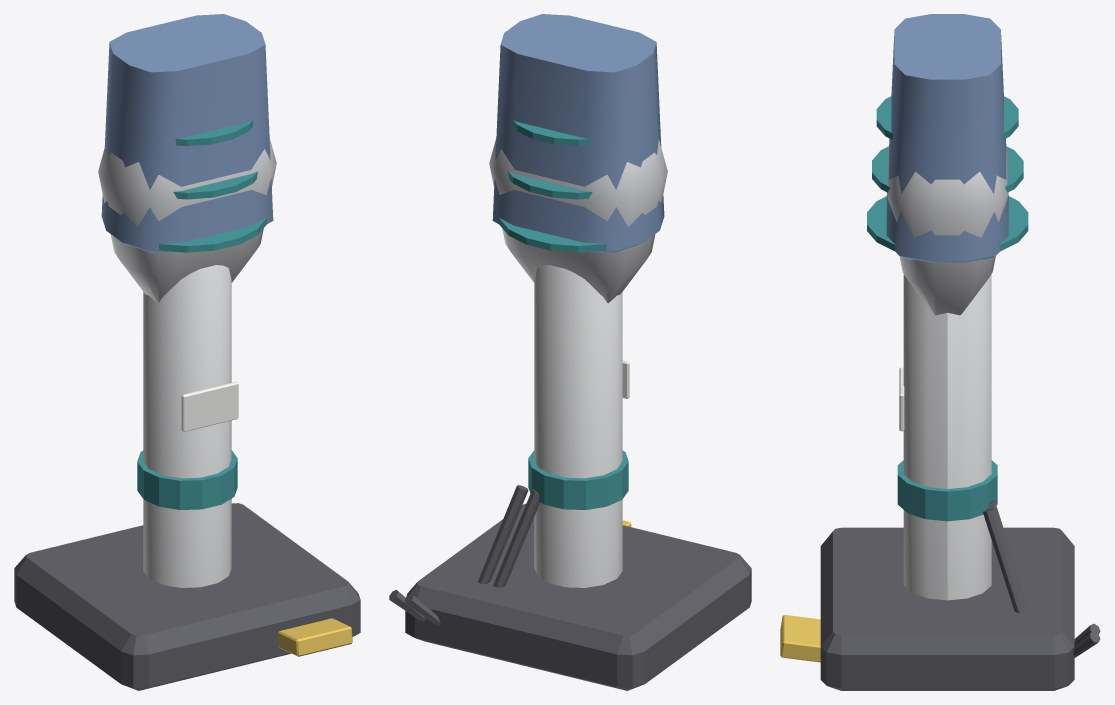
The model's file is dry-cleaners-and-alterations-shop-trouser-topper-press-2e038bff__34965.glb.
The picture shows the model from 3 angles, left to right: view 1: azimuth 30°, elevation 25°; view 2: azimuth 150°, elevation 25°; view 3: azimuth 270°, elevation 25°; orthographic projection.
Parts seen in each view (by area): view 1: trouser-topper-press; view 2: trouser-topper-press; view 3: trouser-topper-press.
Part boxes in pixels (left/top/right/bottom): trouser-topper-press: left=14, top=14, right=360, bottom=690; trouser-topper-press: left=389, top=14, right=751, bottom=690; trouser-topper-press: left=780, top=14, right=1100, bottom=690.
Bounding box in the file's own units: 0.68 × 1.61 × 0.7817.
